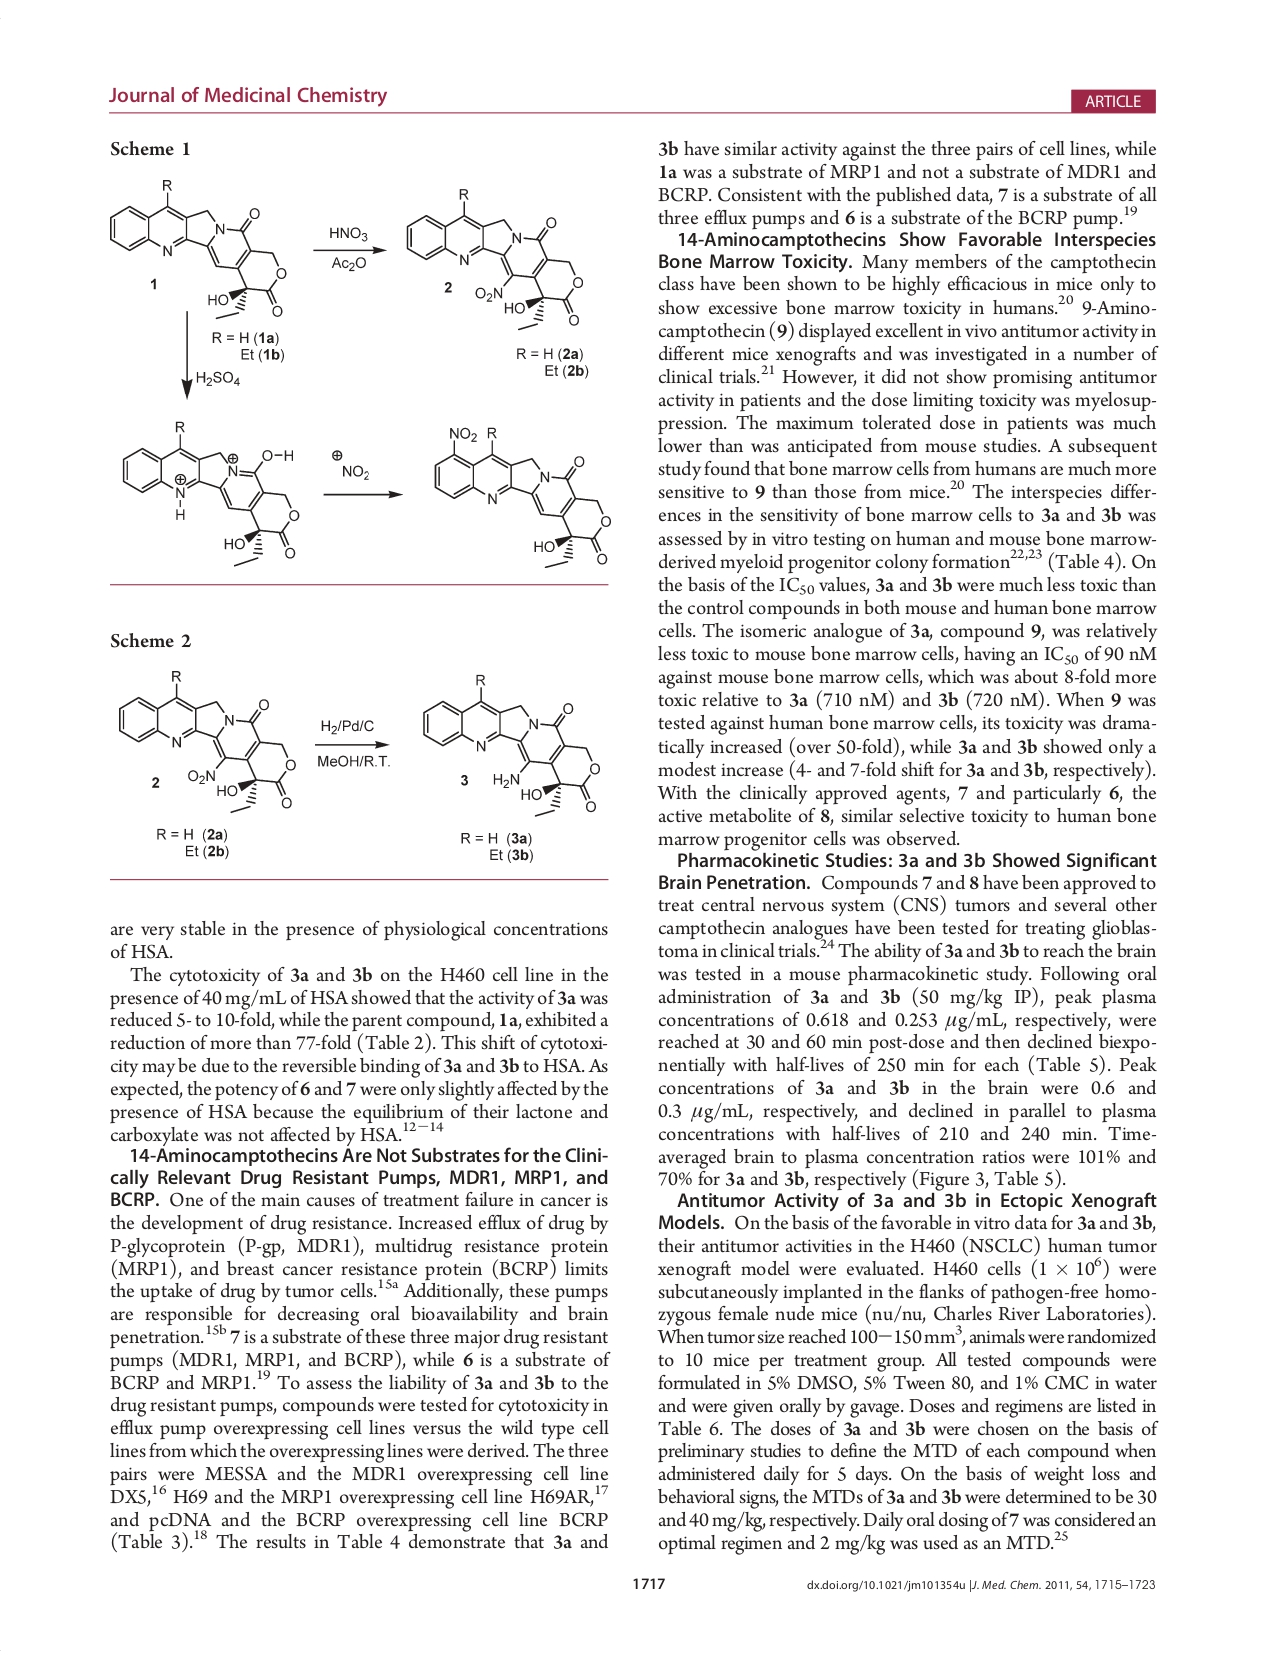exist_molecular: (402, 184, 590, 335), (116, 418, 302, 571), (113, 665, 297, 819), (420, 669, 606, 821), (428, 420, 610, 571), (102, 177, 289, 323)
